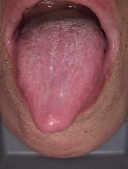tongue: (16, 26, 102, 134)
